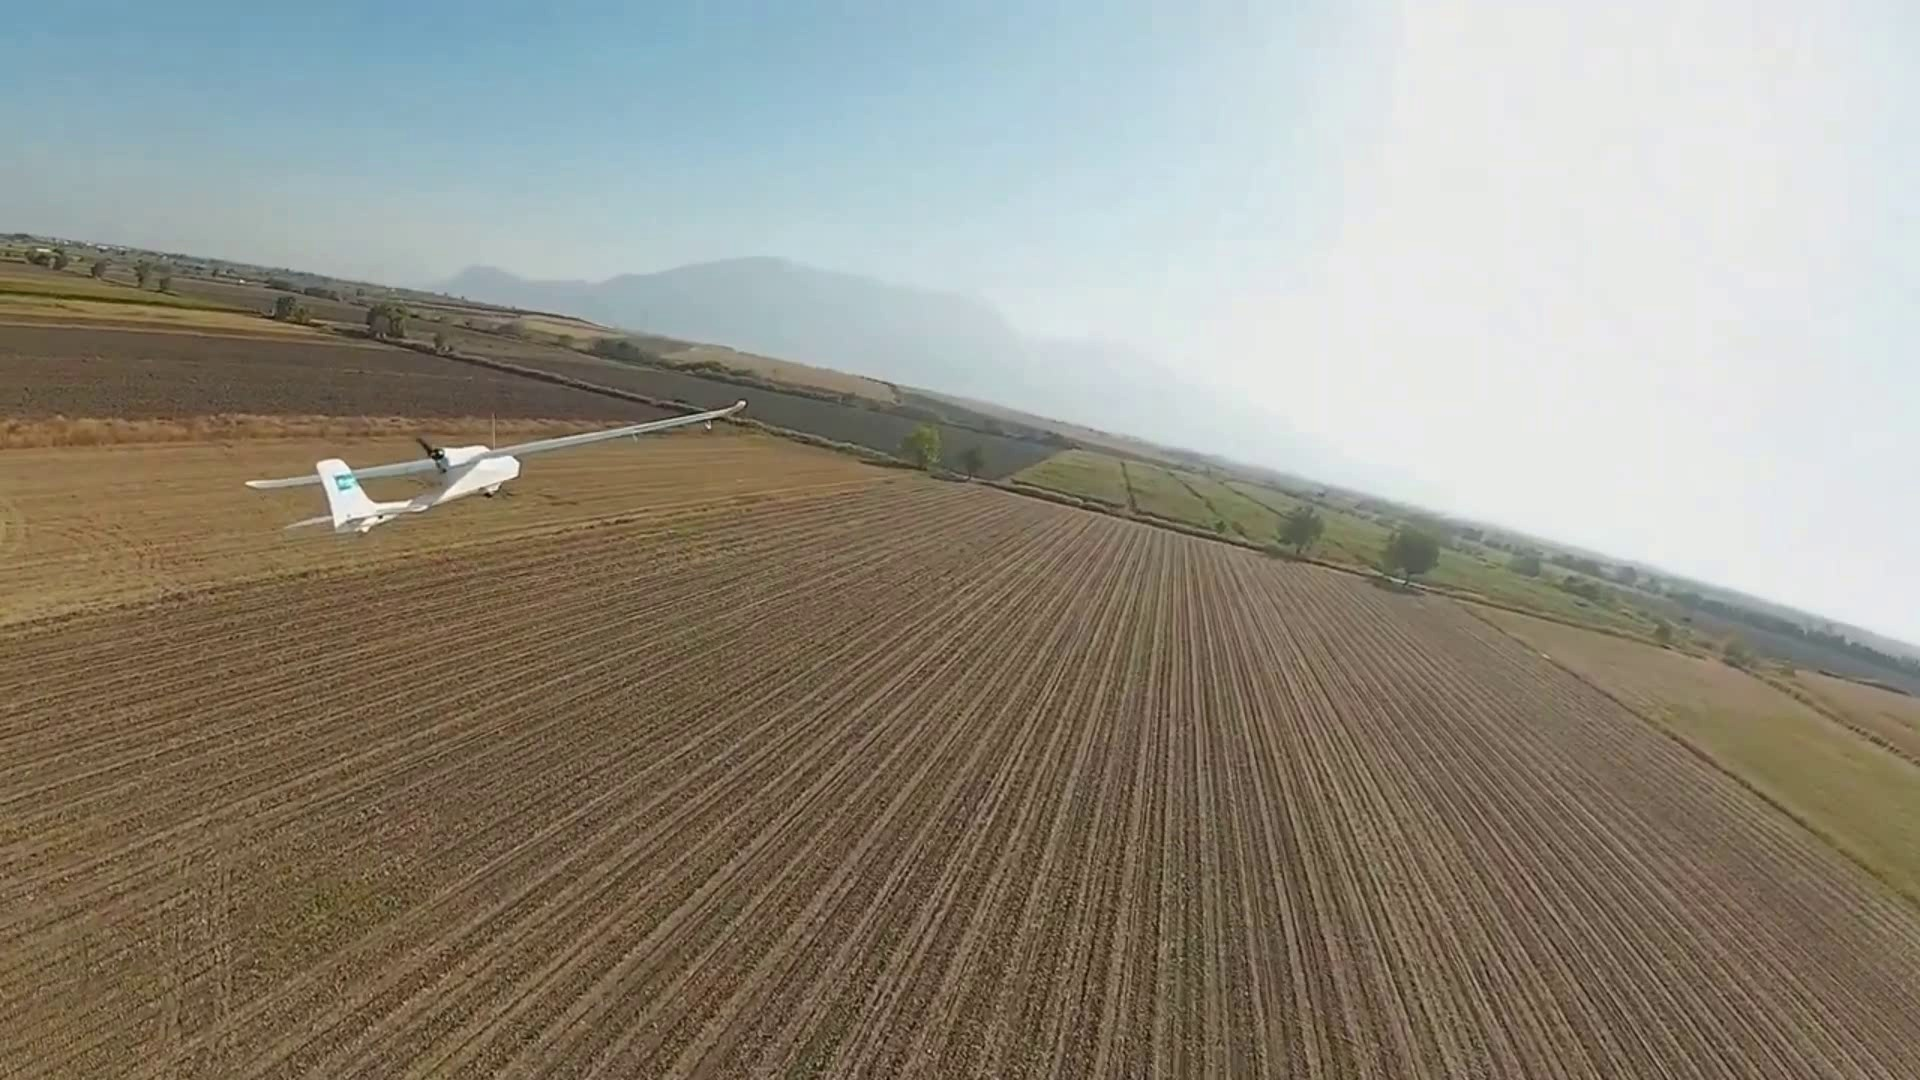airplane: (243, 440, 522, 533)
